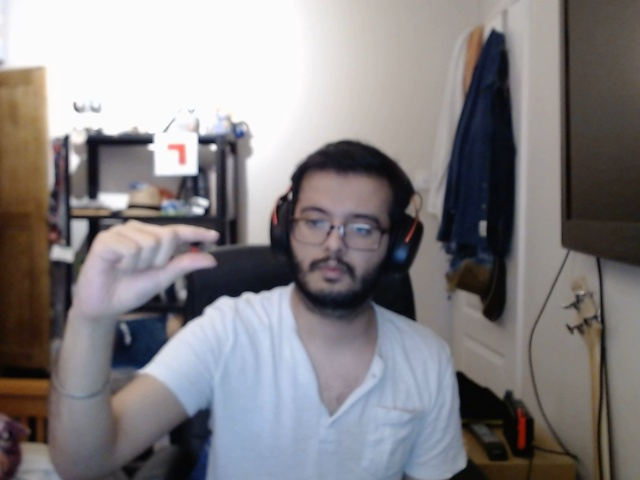Small: (58, 211, 233, 325)
